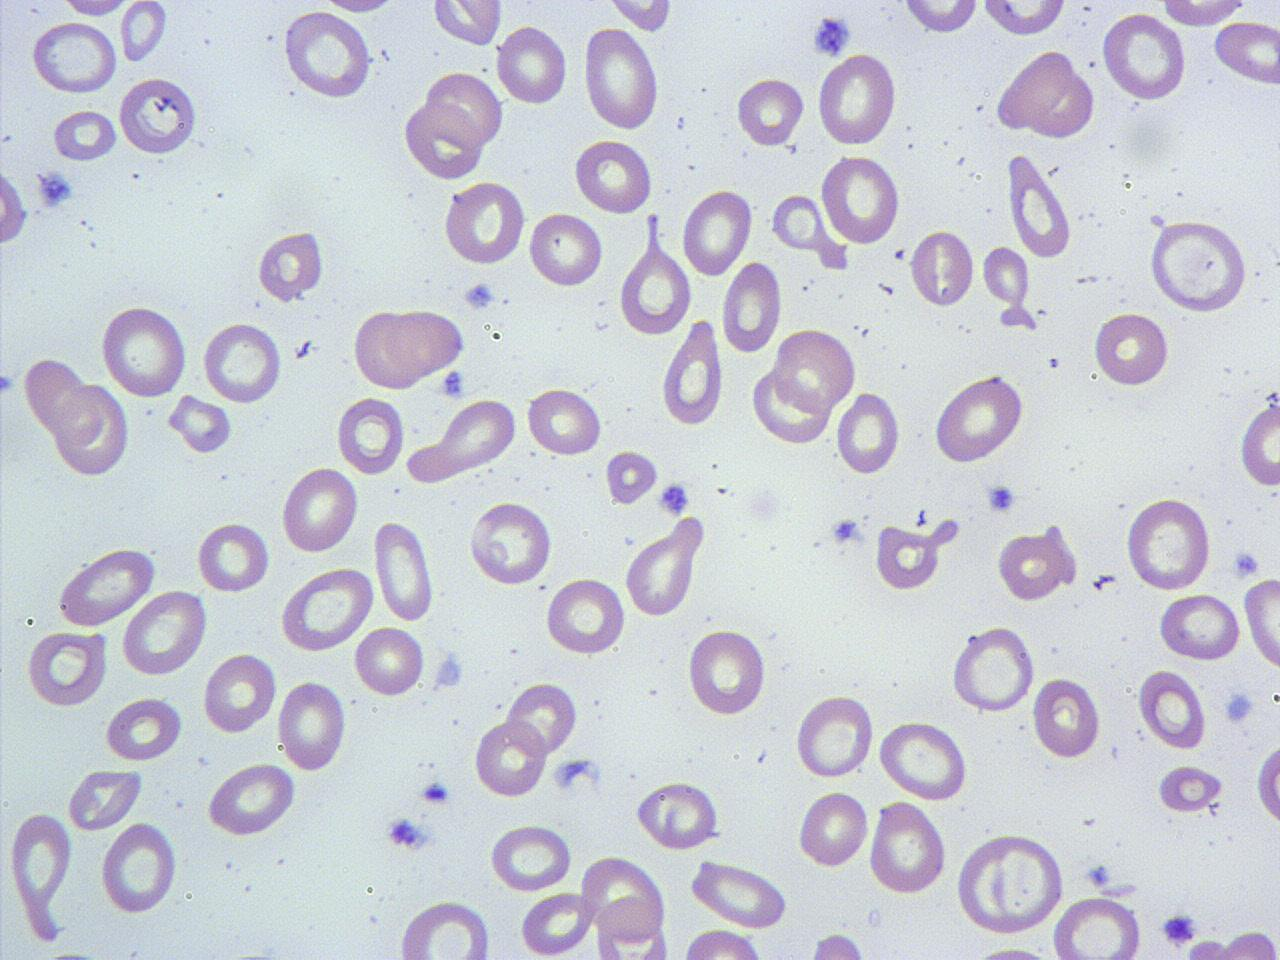Platelets: (809, 13, 854, 61), (384, 814, 433, 852), (744, 483, 784, 526), (550, 756, 598, 792), (35, 168, 75, 211), (1161, 910, 1199, 948), (656, 479, 692, 517), (433, 650, 466, 692), (984, 481, 1017, 515), (1224, 690, 1254, 726), (998, 306, 1039, 331), (830, 516, 866, 546), (461, 282, 496, 310), (441, 366, 468, 402), (1232, 550, 1262, 580), (418, 781, 452, 806), (1084, 860, 1112, 888), (0, 371, 17, 399), (914, 506, 929, 527)
RBC: (955, 830, 1068, 934), (1147, 217, 1249, 315), (7, 804, 75, 944), (98, 302, 188, 401), (1123, 495, 1213, 594), (932, 374, 1026, 468), (277, 564, 374, 654), (581, 24, 660, 132), (282, 8, 373, 101), (866, 798, 948, 898), (425, 395, 519, 484), (55, 546, 156, 627), (120, 586, 209, 679), (950, 624, 1038, 715), (1101, 10, 1187, 102), (877, 717, 971, 802), (816, 50, 898, 147), (98, 818, 178, 916), (467, 498, 554, 588), (624, 519, 700, 620), (772, 325, 858, 414), (686, 624, 767, 719), (442, 177, 526, 268), (820, 152, 901, 246), (688, 856, 790, 930), (51, 382, 131, 476), (279, 464, 359, 557), (794, 691, 875, 782), (659, 316, 724, 429), (1006, 150, 1072, 258), (24, 626, 110, 710), (116, 73, 200, 158), (200, 319, 282, 404), (206, 761, 297, 838), (276, 676, 348, 772), (618, 245, 692, 338), (544, 574, 626, 658), (994, 522, 1077, 604), (995, 50, 1075, 134), (29, 18, 116, 96), (681, 185, 753, 278), (749, 367, 831, 448), (201, 649, 277, 736), (494, 21, 570, 108), (574, 134, 654, 217), (400, 101, 484, 179), (372, 520, 435, 622), (634, 778, 722, 852), (1136, 664, 1208, 752), (425, 69, 506, 148), (1031, 674, 1103, 762), (472, 717, 548, 800), (1093, 310, 1171, 389), (527, 209, 604, 290), (1157, 592, 1243, 664), (796, 788, 870, 870), (397, 896, 493, 960), (1049, 895, 1145, 959), (352, 307, 423, 391), (488, 823, 572, 893), (720, 260, 782, 355), (352, 622, 427, 700), (387, 306, 467, 379), (336, 393, 405, 477), (195, 519, 271, 595), (526, 384, 604, 458), (836, 390, 902, 476), (1027, 61, 1097, 141), (506, 680, 580, 755), (23, 353, 91, 434), (519, 888, 597, 958), (909, 227, 976, 308), (256, 228, 326, 303), (104, 696, 181, 762), (66, 768, 144, 834), (736, 74, 805, 147), (872, 521, 941, 592), (1211, 16, 1279, 88), (593, 902, 671, 960), (1237, 391, 1279, 492), (166, 392, 234, 454), (48, 107, 118, 163), (1155, 761, 1225, 816), (428, 0, 503, 49), (1242, 576, 1280, 672), (976, 0, 1072, 37), (981, 243, 1033, 311), (770, 191, 825, 254), (604, 449, 658, 507), (677, 927, 770, 960), (900, 0, 982, 35), (1156, 0, 1252, 29), (1252, 740, 1280, 830), (0, 162, 28, 247), (604, 0, 674, 33)
